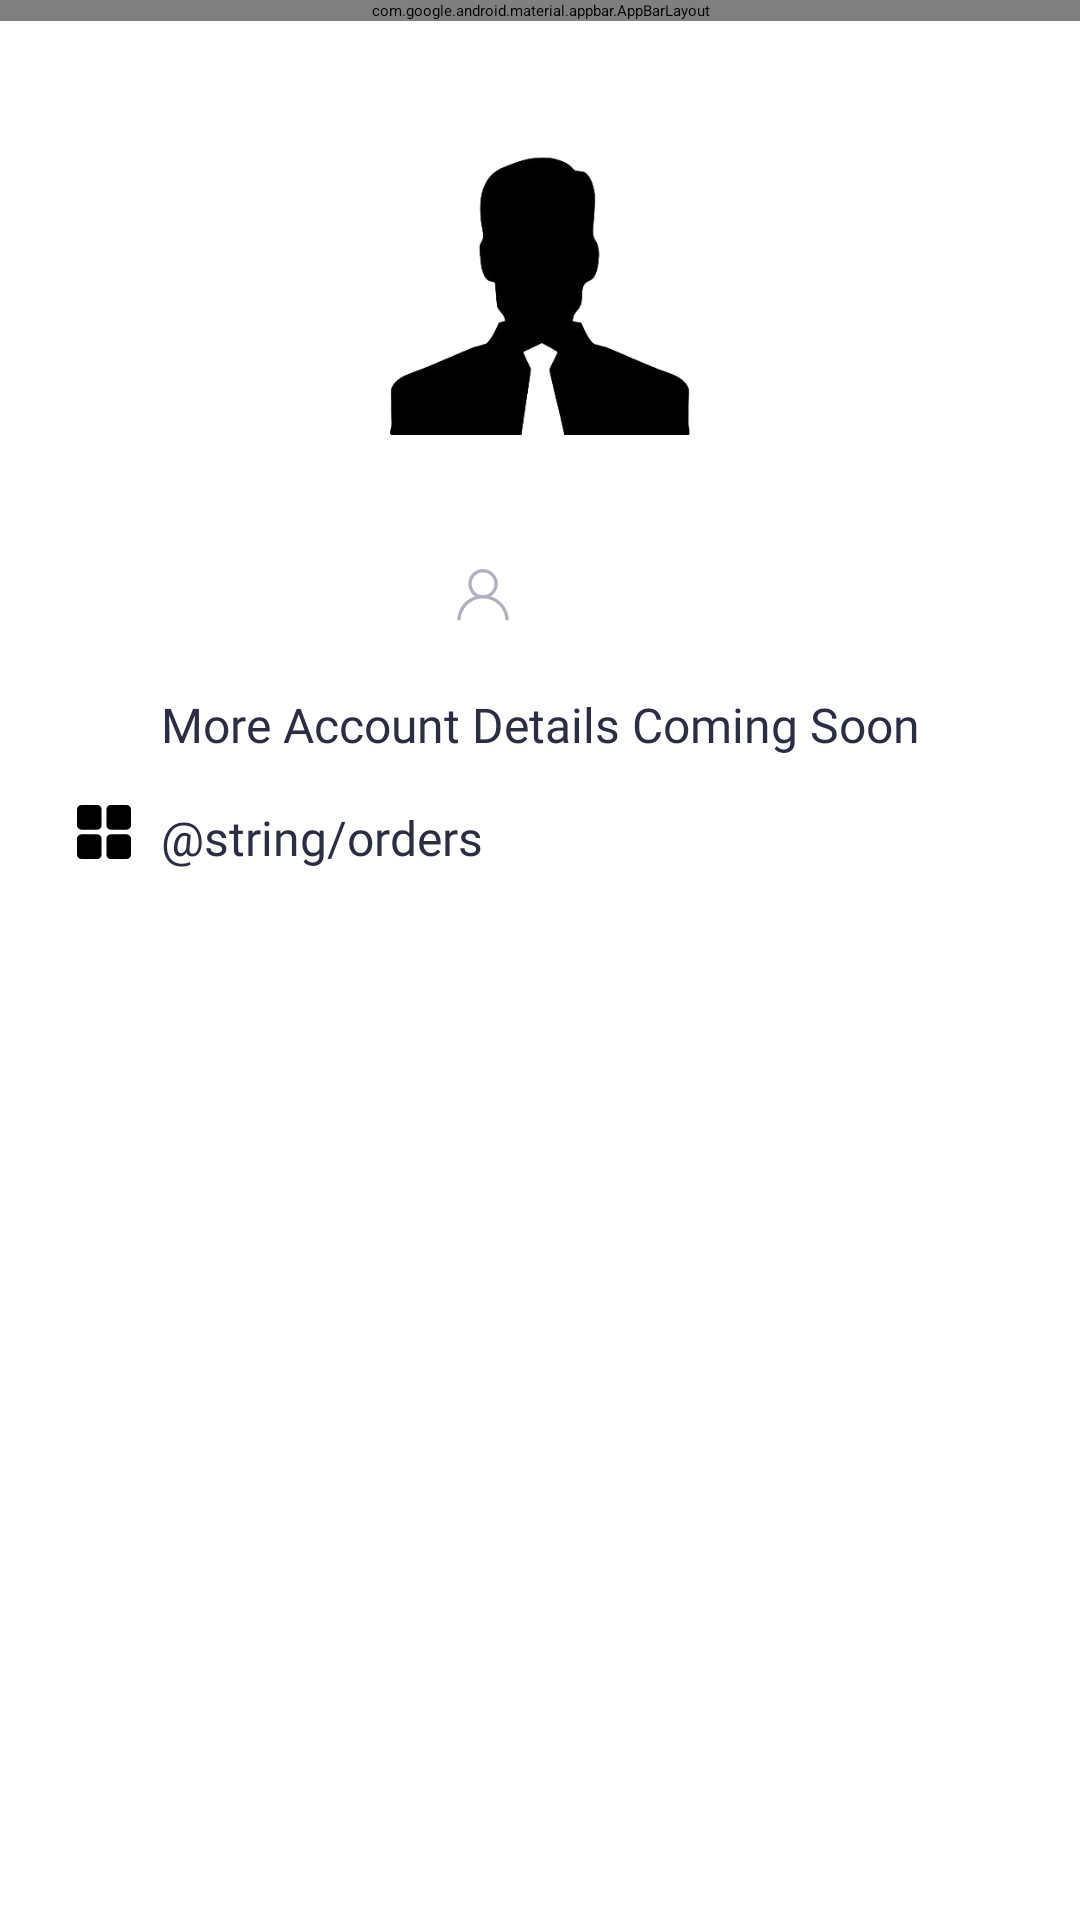

Where icons sit on this 1080 x 1920 app screen, as (x1, y1, x2, y2):
profile: (390, 157, 690, 435)
